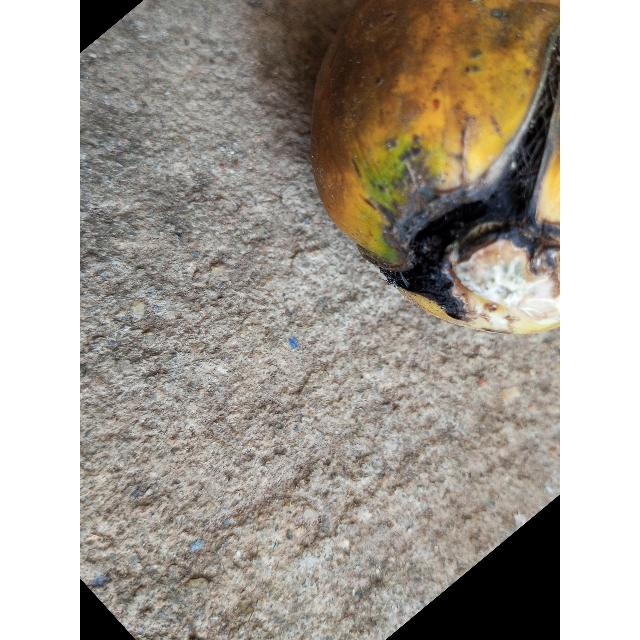damaged: (311, 0, 560, 334)
